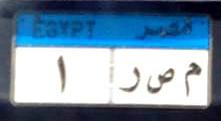1: (53, 53, 69, 94)
meem: (182, 58, 204, 99)
raa: (115, 62, 141, 96)
saad: (145, 63, 175, 98)
